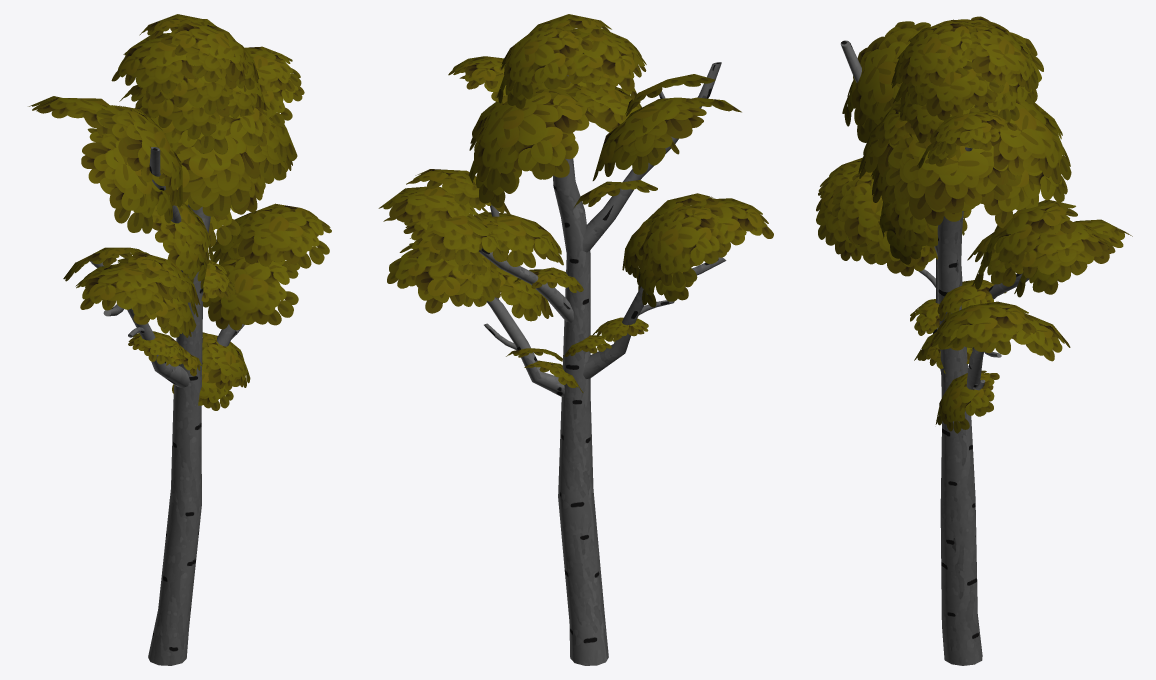
The model's file is birchTree1.glb.
3 renders of one model, left to right at view 1: azimuth 30°, elevation 25°; view 2: azimuth 150°, elevation 25°; view 3: azimuth 270°, elevation 25°, orthographic.
Parts seen in each view (by area): view 1: mesh_mm1, Birch_1_Cylinder.049; view 2: mesh_mm1, Birch_1_Cylinder.049; view 3: mesh_mm1, Birch_1_Cylinder.049.
Boxes of the visible parts, x1=… form: mesh_mm1: x1=28, y1=14, x2=331, y2=410; Birch_1_Cylinder.049: x1=90, y1=147, x2=244, y2=665; mesh_mm1: x1=378, y1=14, x2=773, y2=392; Birch_1_Cylinder.049: x1=479, y1=29, x2=726, y2=665; mesh_mm1: x1=816, y1=16, x2=1132, y2=433; Birch_1_Cylinder.049: x1=840, y1=40, x2=1029, y2=665.
Size of the model in its own units: 4.89 by 9.48 by 4.46.
Materials: 2 (2 with a texture image).
